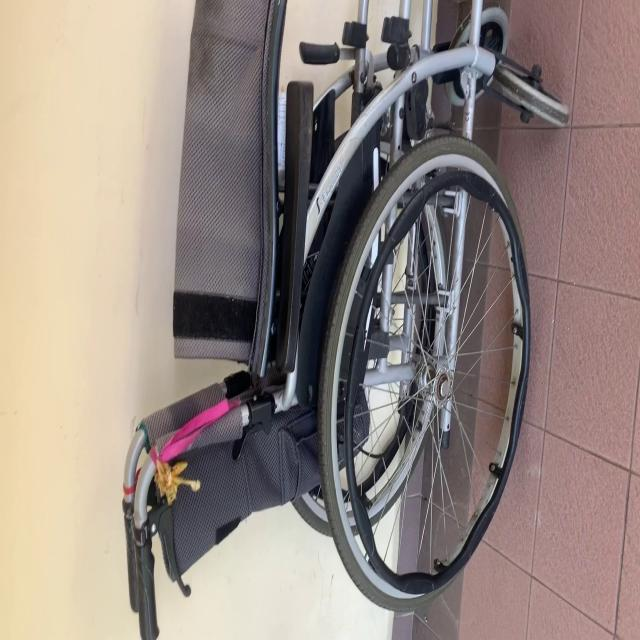wheelchair: (113, 0, 577, 640)
